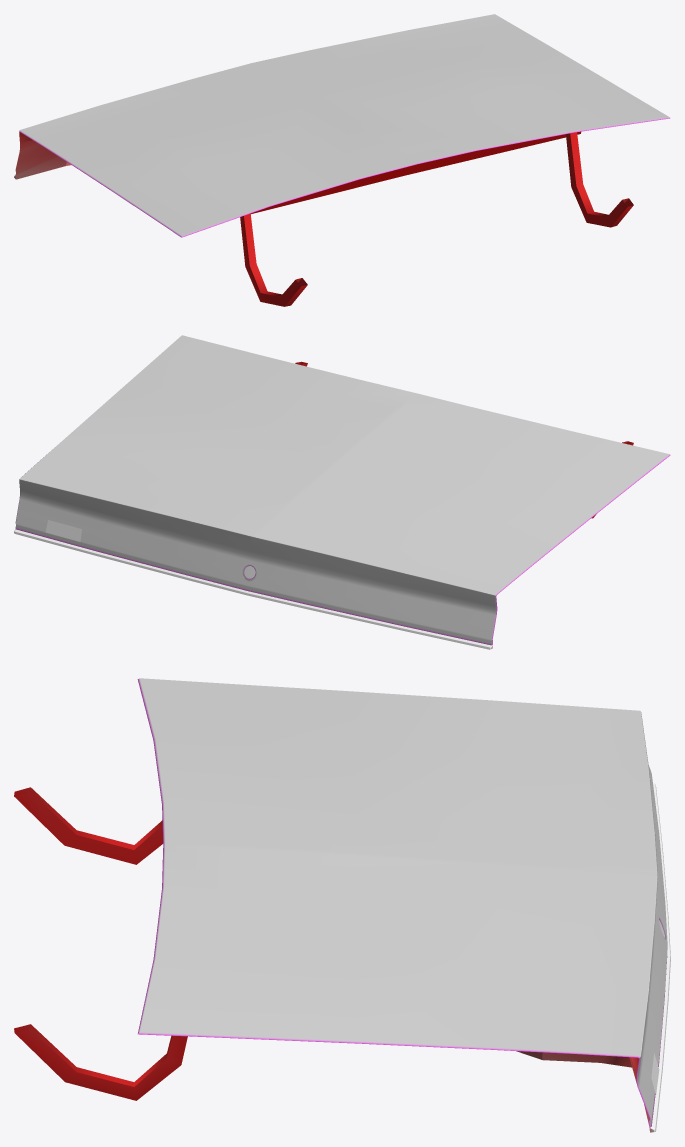
The model's file is Car_Buick_GrandNational_1987_Boot_SetA.fbx.
3 renders of one model, top to bottom at view 1: azimuth 30°, elevation 25°; view 2: azimuth 150°, elevation 25°; view 3: azimuth 270°, elevation 25°, orthographic. The views are drawn at different scales.
Visible parts, largest first — view 1: Boot 6; view 2: Boot 6; view 3: Boot 6.
Part boxes in pixels (<box>): Boot 6: <box>14,14,670,306</box>; Boot 6: <box>14,335,670,649</box>; Boot 6: <box>14,678,670,1132</box>.
Bounding box in the file's own units: 1.57 × 0.282 × 1.22.
